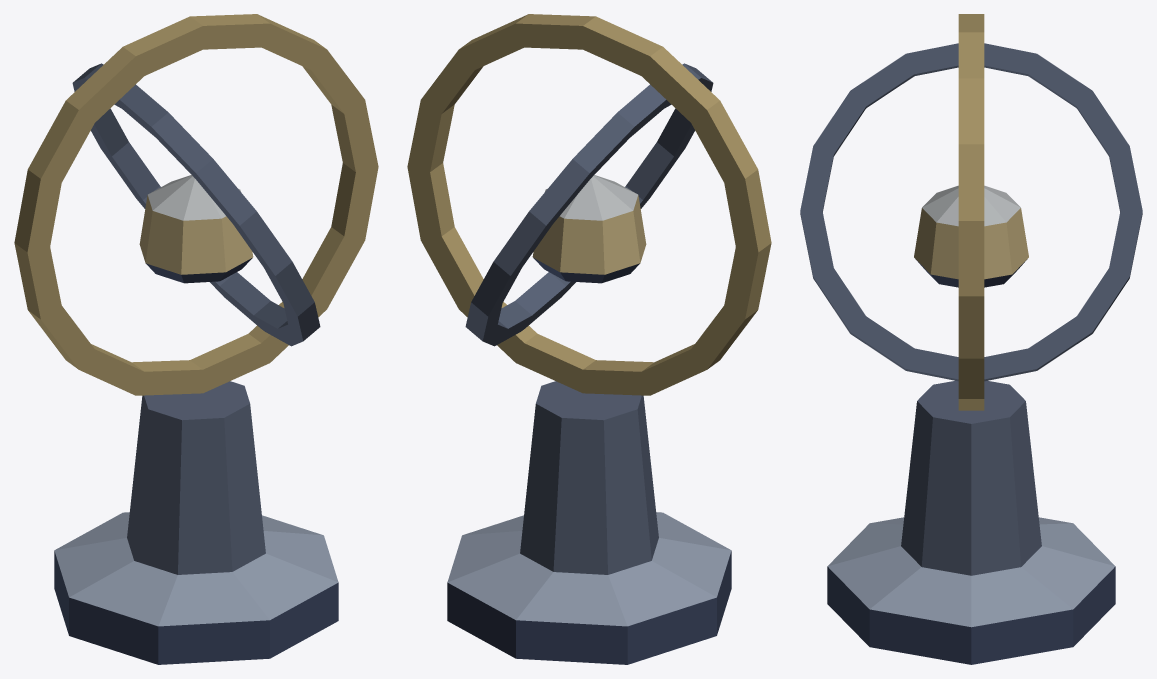
Rendered from armillary.glb.
3 renders of one model, left to right at view 1: azimuth 30°, elevation 25°; view 2: azimuth 150°, elevation 25°; view 3: azimuth 270°, elevation 25°, orthographic. The views are drawn at different scales.
Parts seen in each view (by area): view 1: armillary__body; view 2: armillary__body; view 3: armillary__body.
Part boxes in pixels (bbox=[...]): armillary__body: bbox=[14, 14, 378, 664]; armillary__body: bbox=[407, 14, 771, 664]; armillary__body: bbox=[800, 14, 1142, 664].
Bounding box in the file's own units: 1.24 × 1.97 × 1.07.
